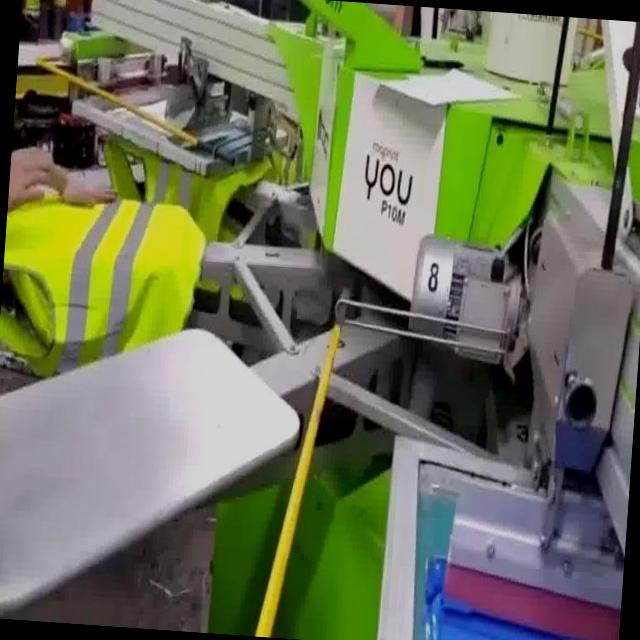vest: (0, 189, 207, 388)
